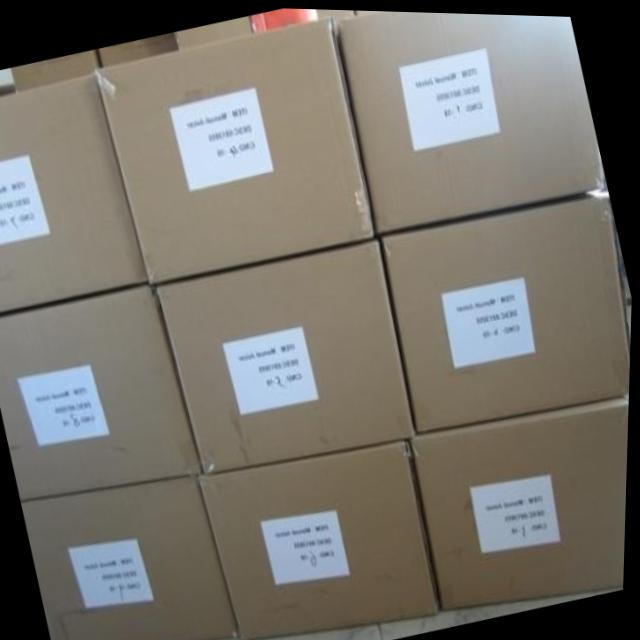box: (97, 13, 377, 284), (157, 238, 418, 473), (383, 189, 632, 430), (336, 9, 605, 232), (200, 437, 442, 639), (413, 391, 631, 608), (0, 284, 205, 500), (25, 474, 242, 640), (0, 72, 149, 312), (10, 48, 102, 90), (98, 32, 179, 66), (174, 15, 253, 49), (317, 7, 356, 25)
